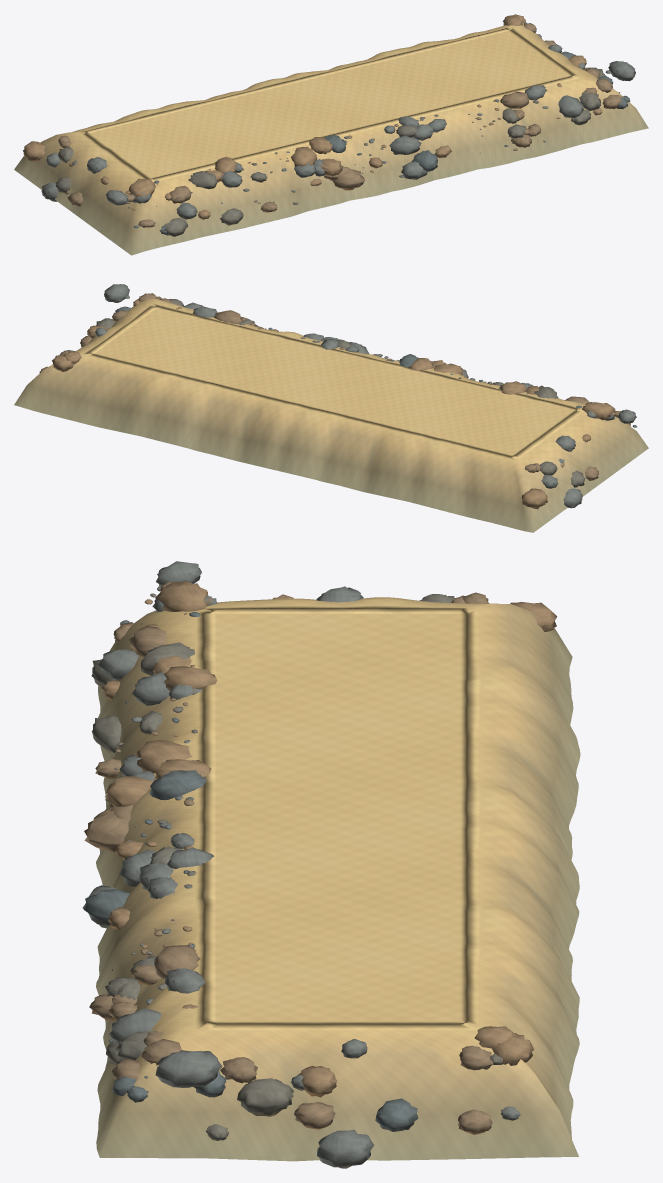
Rendered from arena_coast.glb.
3 renders of one model, top to bottom at view 1: azimuth 30°, elevation 25°; view 2: azimuth 150°, elevation 25°; view 3: azimuth 270°, elevation 25°, orthographic. The views are drawn at different scales.
Visible parts, largest first — view 1: Arena coast - flat gameplay surface, PBR rock kit clusters; view 2: Arena coast - flat gameplay surface, PBR rock kit clusters; view 3: Arena coast - flat gameplay surface, PBR rock kit clusters.
Boxes of the visible parts, <box> form: Arena coast - flat gameplay surface: <box>14,23,648,255</box>; PBR rock kit clusters: <box>23,14,635,236</box>; Arena coast - flat gameplay surface: <box>14,298,648,532</box>; PBR rock kit clusters: <box>39,284,637,509</box>; Arena coast - flat gameplay surface: <box>96,597,580,1161</box>; PBR rock kit clusters: <box>82,561,556,1168</box>.
Size of the model in its own units: 60.29 by 5.99 by 24.33.
3 materials, 2 textured.
